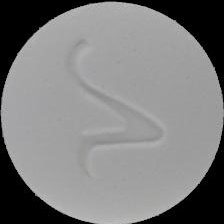53808-0870: (0, 0, 224, 224)
